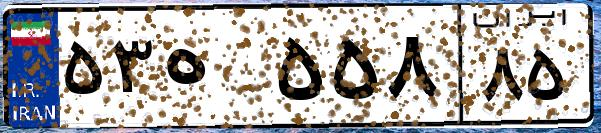3: (110, 28, 158, 98)
5: (270, 28, 330, 110), (330, 28, 385, 110), (57, 26, 110, 100), (525, 38, 570, 115)
8: (385, 28, 445, 110), (475, 38, 525, 113)
ه: (158, 20, 270, 120)
